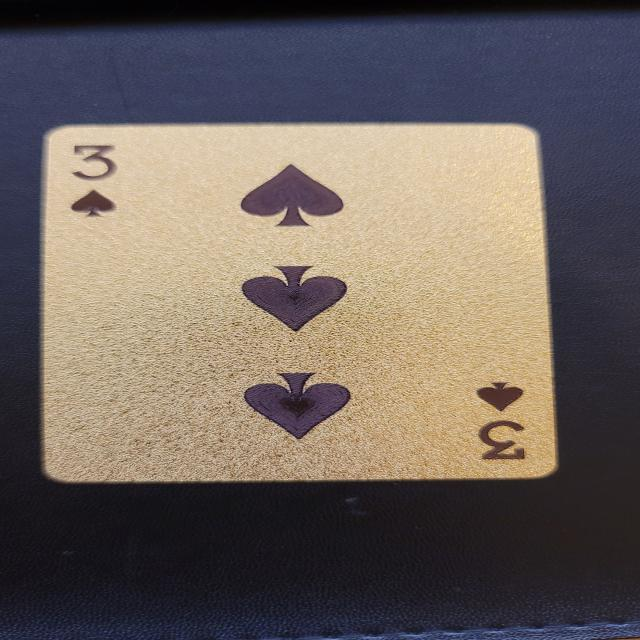3 of spades: (43, 123, 558, 483)
